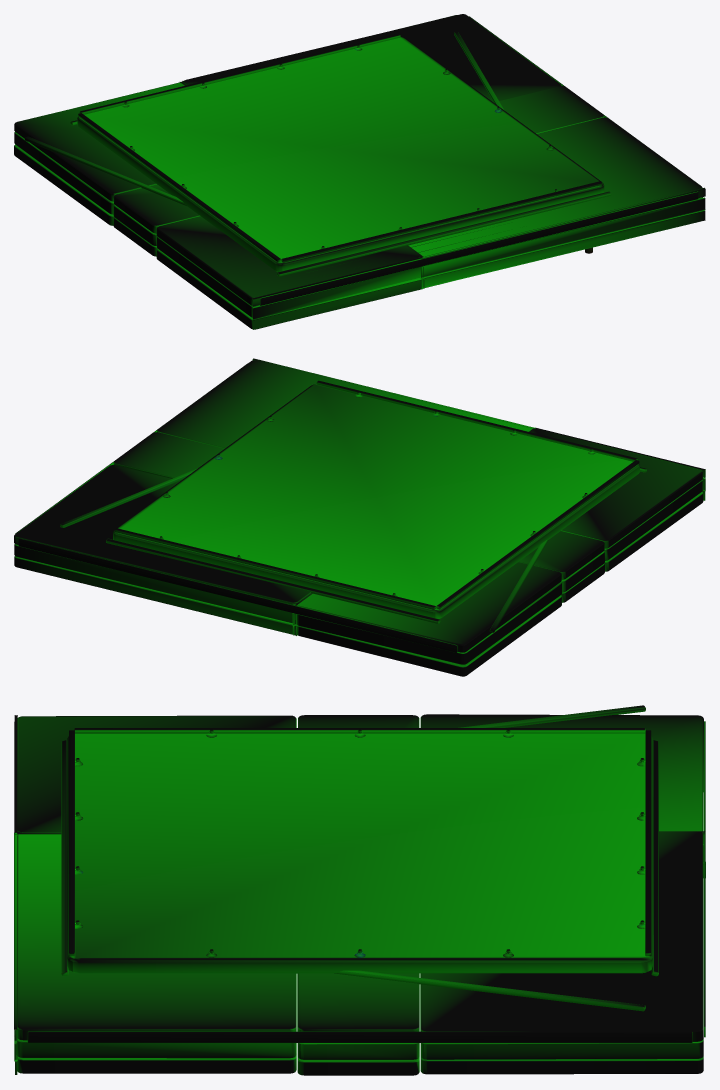
File: aqs002_platform.glb
3 views of the same model, one above another, from view 1: azimuth 30°, elevation 25°; view 2: azimuth 150°, elevation 25°; view 3: azimuth 270°, elevation 25° (orthographic). The views are drawn at different scales.
Visible parts, largest first — view 1: Platform; view 2: Platform; view 3: Platform.
Boxes of the visible parts, x1,y1,x2,y2 form: Platform: [14, 14, 705, 329]; Platform: [14, 358, 705, 676]; Platform: [14, 705, 705, 1075].
Bounding box in the file's own units: 5.2 × 0.631 × 4.73.
